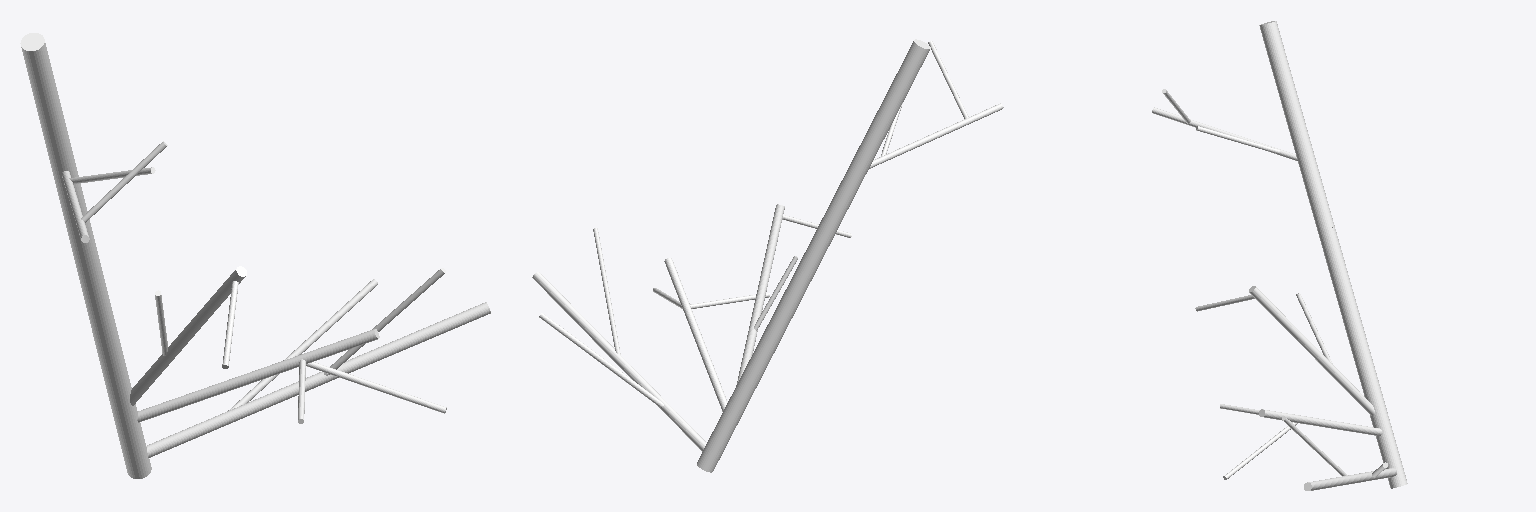
URDF robot description (tree_0.urdf):
<?xml version='1.0' encoding='UTF-8'?>
<robot name="tree_0.urdf">
  <link name="branch_0">
    <inertial>
      <origin xyz="0.0 0.0 0.0" rpy="0.0 -0.0 0.0"/>
      <mass value="1.0"/>
      <inertia ixx="1.0" ixy="0.0" ixz="0.0" iyy="1.0" iyz="0.0" izz="1.0"/>
    </inertial>
    <visual name="branch_0_visual">
      <geometry>
        <cylinder radius="0.15013262370090905" length="8.096652650422634"/>
      </geometry>
      <material name="branch_material"/>
      <origin xyz="-1.3869820004850884 -1.1022877473624741 3.640080862802901" rpy="0.0 0.4529569928857762 -2.470068296618171"/>
    </visual>
    <collision name="branch_0_collision">
      <geometry>
        <cylinder radius="0.15013262370090905" length="8.096652650422634"/>
      </geometry>
      <origin xyz="-1.3869820004850884 -1.1022877473624741 3.640080862802901" rpy="0.0 0.4529569928857762 -2.470068296618171"/>
    </collision>
  </link>
  <link name="branch_1">
    <inertial>
      <origin xyz="0.0 0.0 0.0" rpy="0.0 -0.0 0.0"/>
      <mass value="0.0"/>
      <inertia ixx="1.0" ixy="0.0" ixz="0.0" iyy="1.0" iyz="0.0" izz="1.0"/>
    </inertial>
    <visual name="branch_1_visual">
      <geometry>
        <cylinder radius="0.051920365869800304" length="2.86699736879474"/>
      </geometry>
      <material name="branch_material"/>
      <origin xyz="0.0 0.0 0.0" rpy="0.0 -0.0 0.0"/>
    </visual>
    <collision name="branch_1_collision">
      <geometry>
        <cylinder radius="0.051920365869800304" length="2.86699736879474"/>
      </geometry>
      <origin xyz="0.0 0.0 0.0" rpy="0.0 -0.0 0.0"/>
    </collision>
  </link>
  <link name="branch_2">
    <inertial>
      <origin xyz="0.0 0.0 0.0" rpy="0.0 -0.0 0.0"/>
      <mass value="0.0"/>
      <inertia ixx="1.0" ixy="0.0" ixz="0.0" iyy="1.0" iyz="0.0" izz="1.0"/>
    </inertial>
    <visual name="branch_2_visual">
      <geometry>
        <cylinder radius="0.04" length="1.5883883002295935"/>
      </geometry>
      <material name="branch_material"/>
      <origin xyz="0.0 0.0 0.0" rpy="0.0 -0.0 0.0"/>
    </visual>
    <collision name="branch_2_collision">
      <geometry>
        <cylinder radius="0.04" length="1.5883883002295935"/>
      </geometry>
      <origin xyz="0.0 0.0 0.0" rpy="0.0 -0.0 0.0"/>
    </collision>
  </link>
  <link name="branch_3">
    <inertial>
      <origin xyz="0.0 0.0 0.0" rpy="0.0 -0.0 0.0"/>
      <mass value="0.0"/>
      <inertia ixx="1.0" ixy="0.0" ixz="0.0" iyy="1.0" iyz="0.0" izz="1.0"/>
    </inertial>
    <visual name="branch_3_visual">
      <geometry>
        <cylinder radius="0.04" length="1.4531867637761382"/>
      </geometry>
      <material name="branch_material"/>
      <origin xyz="0.0 0.0 0.0" rpy="0.0 -0.0 0.0"/>
    </visual>
    <collision name="branch_3_collision">
      <geometry>
        <cylinder radius="0.04" length="1.4531867637761382"/>
      </geometry>
      <origin xyz="0.0 0.0 0.0" rpy="0.0 -0.0 0.0"/>
    </collision>
  </link>
  <link name="branch_4">
    <inertial>
      <origin xyz="0.0 0.0 0.0" rpy="0.0 -0.0 0.0"/>
      <mass value="0.0"/>
      <inertia ixx="1.0" ixy="0.0" ixz="0.0" iyy="1.0" iyz="0.0" izz="1.0"/>
    </inertial>
    <visual name="branch_4_visual">
      <geometry>
        <cylinder radius="0.0668728197853477" length="3.4217289489213685"/>
      </geometry>
      <material name="branch_material"/>
      <origin xyz="0.0 0.0 0.0" rpy="0.0 -0.0 0.0"/>
    </visual>
    <collision name="branch_4_collision">
      <geometry>
        <cylinder radius="0.0668728197853477" length="3.4217289489213685"/>
      </geometry>
      <origin xyz="0.0 0.0 0.0" rpy="0.0 -0.0 0.0"/>
    </collision>
  </link>
  <link name="branch_5">
    <inertial>
      <origin xyz="0.0 0.0 0.0" rpy="0.0 -0.0 0.0"/>
      <mass value="0.0"/>
      <inertia ixx="1.0" ixy="0.0" ixz="0.0" iyy="1.0" iyz="0.0" izz="1.0"/>
    </inertial>
    <visual name="branch_5_visual">
      <geometry>
        <cylinder radius="0.04" length="1.5217104062609992"/>
      </geometry>
      <material name="branch_material"/>
      <origin xyz="0.0 0.0 0.0" rpy="0.0 -0.0 0.0"/>
    </visual>
    <collision name="branch_5_collision">
      <geometry>
        <cylinder radius="0.04" length="1.5217104062609992"/>
      </geometry>
      <origin xyz="0.0 0.0 0.0" rpy="0.0 -0.0 0.0"/>
    </collision>
  </link>
  <link name="branch_6">
    <inertial>
      <origin xyz="0.0 0.0 0.0" rpy="0.0 -0.0 0.0"/>
      <mass value="0.0"/>
      <inertia ixx="1.0" ixy="0.0" ixz="0.0" iyy="1.0" iyz="0.0" izz="1.0"/>
    </inertial>
    <visual name="branch_6_visual">
      <geometry>
        <cylinder radius="0.04" length="1.8837803327590306"/>
      </geometry>
      <material name="branch_material"/>
      <origin xyz="0.0 0.0 0.0" rpy="0.0 -0.0 0.0"/>
    </visual>
    <collision name="branch_6_collision">
      <geometry>
        <cylinder radius="0.04" length="1.8837803327590306"/>
      </geometry>
      <origin xyz="0.0 0.0 0.0" rpy="0.0 -0.0 0.0"/>
    </collision>
  </link>
  <link name="branch_7">
    <inertial>
      <origin xyz="0.0 0.0 0.0" rpy="0.0 -0.0 0.0"/>
      <mass value="0.0"/>
      <inertia ixx="1.0" ixy="0.0" ixz="0.0" iyy="1.0" iyz="0.0" izz="1.0"/>
    </inertial>
    <visual name="branch_7_visual">
      <geometry>
        <cylinder radius="0.0763507240095291" length="4.660369491825719"/>
      </geometry>
      <material name="branch_material"/>
      <origin xyz="0.0 0.0 0.0" rpy="0.0 -0.0 0.0"/>
    </visual>
    <collision name="branch_7_collision">
      <geometry>
        <cylinder radius="0.0763507240095291" length="4.660369491825719"/>
      </geometry>
      <origin xyz="0.0 0.0 0.0" rpy="0.0 -0.0 0.0"/>
    </collision>
  </link>
  <link name="branch_8">
    <inertial>
      <origin xyz="0.0 0.0 0.0" rpy="0.0 -0.0 0.0"/>
      <mass value="0.0"/>
      <inertia ixx="1.0" ixy="0.0" ixz="0.0" iyy="1.0" iyz="0.0" izz="1.0"/>
    </inertial>
    <visual name="branch_8_visual">
      <geometry>
        <cylinder radius="0.04553460023283112" length="2.5829864928231516"/>
      </geometry>
      <material name="branch_material"/>
      <origin xyz="0.0 0.0 0.0" rpy="0.0 -0.0 0.0"/>
    </visual>
    <collision name="branch_8_collision">
      <geometry>
        <cylinder radius="0.04553460023283112" length="2.5829864928231516"/>
      </geometry>
      <origin xyz="0.0 0.0 0.0" rpy="0.0 -0.0 0.0"/>
    </collision>
  </link>
  <link name="branch_9">
    <inertial>
      <origin xyz="0.0 0.0 0.0" rpy="0.0 -0.0 0.0"/>
      <mass value="0.0"/>
      <inertia ixx="1.0" ixy="0.0" ixz="0.0" iyy="1.0" iyz="0.0" izz="1.0"/>
    </inertial>
    <visual name="branch_9_visual">
      <geometry>
        <cylinder radius="0.04" length="2.2467777734117598"/>
      </geometry>
      <material name="branch_material"/>
      <origin xyz="0.0 0.0 0.0" rpy="0.0 -0.0 0.0"/>
    </visual>
    <collision name="branch_9_collision">
      <geometry>
        <cylinder radius="0.04" length="2.2467777734117598"/>
      </geometry>
      <origin xyz="0.0 0.0 0.0" rpy="0.0 -0.0 0.0"/>
    </collision>
  </link>
  <link name="branch_10">
    <inertial>
      <origin xyz="0.0 0.0 0.0" rpy="0.0 -0.0 0.0"/>
      <mass value="0.0"/>
      <inertia ixx="1.0" ixy="0.0" ixz="0.0" iyy="1.0" iyz="0.0" izz="1.0"/>
    </inertial>
    <visual name="branch_10_visual">
      <geometry>
        <cylinder radius="0.07429862418030667" length="3.3912485638033703"/>
      </geometry>
      <material name="branch_material"/>
      <origin xyz="0.0 0.0 0.0" rpy="0.0 -0.0 0.0"/>
    </visual>
    <collision name="branch_10_collision">
      <geometry>
        <cylinder radius="0.07429862418030667" length="3.3912485638033703"/>
      </geometry>
      <origin xyz="0.0 0.0 0.0" rpy="0.0 -0.0 0.0"/>
    </collision>
  </link>
  <link name="branch_11">
    <inertial>
      <origin xyz="0.0 0.0 0.0" rpy="0.0 -0.0 0.0"/>
      <mass value="0.0"/>
      <inertia ixx="1.0" ixy="0.0" ixz="0.0" iyy="1.0" iyz="0.0" izz="1.0"/>
    </inertial>
    <visual name="branch_11_visual">
      <geometry>
        <cylinder radius="0.04" length="1.4496087104026383"/>
      </geometry>
      <material name="branch_material"/>
      <origin xyz="0.0 0.0 0.0" rpy="0.0 -0.0 0.0"/>
    </visual>
    <collision name="branch_11_collision">
      <geometry>
        <cylinder radius="0.04" length="1.4496087104026383"/>
      </geometry>
      <origin xyz="0.0 0.0 0.0" rpy="0.0 -0.0 0.0"/>
    </collision>
  </link>
  <link name="branch_12">
    <inertial>
      <origin xyz="0.0 0.0 0.0" rpy="0.0 -0.0 0.0"/>
      <mass value="0.0"/>
      <inertia ixx="1.0" ixy="0.0" ixz="0.0" iyy="1.0" iyz="0.0" izz="1.0"/>
    </inertial>
    <visual name="branch_12_visual">
      <geometry>
        <cylinder radius="0.04" length="1.4071426121738593"/>
      </geometry>
      <material name="branch_material"/>
      <origin xyz="0.0 0.0 0.0" rpy="0.0 -0.0 0.0"/>
    </visual>
    <collision name="branch_12_collision">
      <geometry>
        <cylinder radius="0.04" length="1.4071426121738593"/>
      </geometry>
      <origin xyz="0.0 0.0 0.0" rpy="0.0 -0.0 0.0"/>
    </collision>
  </link>
  <joint name="joint_0_1" type="fixed">
    <parent link="branch_0"/>
    <child link="branch_1"/>
    <axis xyz="1. 0. 0."/>
    <origin xyz="-2.5432021764851758 -2.8340914590452395 5.298900423929498" rpy="1.0307131364332076 1.3044249575014595 -0.9590427431967431"/>
  </joint>
  <joint name="joint_0_4" type="fixed">
    <parent link="branch_0"/>
    <child link="branch_4"/>
    <axis xyz="1. 0. 0."/>
    <origin xyz="0.8449163965118388 -1.2760604664050104 1.5605153213928653" rpy="0.7685279684794722 0.9390854646389996 0.1534758009769834"/>
  </joint>
  <joint name="joint_0_7" type="fixed">
    <parent link="branch_0"/>
    <child link="branch_7"/>
    <axis xyz="1. 0. 0."/>
    <origin xyz="1.9693584696585402 -0.8004129472239947 1.0433908033256993" rpy="0.7825736423464414 1.0521247555406519 0.5104405778621349"/>
  </joint>
  <joint name="joint_0_10" type="fixed">
    <parent link="branch_0"/>
    <child link="branch_10"/>
    <axis xyz="1. 0. 0."/>
    <origin xyz="-0.19500642901592524 -1.3938083124119782 2.3587037297106224" rpy="0.516745002658479 0.49576769357779676 -0.5039064654988771"/>
  </joint>
  <joint name="joint_1_2" type="fixed">
    <parent link="branch_0"/>
    <child link="branch_2"/>
    <axis xyz="1. 0. 0."/>
    <origin xyz="-1.9600113770884535 -2.6905210639004884 5.486639416594718" rpy="1.1487028671122481 -0.24853229754640016 0.3734555327155915"/>
  </joint>
  <joint name="joint_1_3" type="fixed">
    <parent link="branch_0"/>
    <child link="branch_3"/>
    <axis xyz="1. 0. 0."/>
    <origin xyz="-2.3892026905008703 -3.7337424929450687 5.911676468733345" rpy="0.7918333258851697 0.0780444148946099 1.0769787307702419"/>
  </joint>
  <joint name="joint_4_5" type="fixed">
    <parent link="branch_0"/>
    <child link="branch_5"/>
    <axis xyz="1. 0. 0."/>
    <origin xyz="0.9281222536702178 -2.34271526110035 1.794457871543665" rpy="-1.6600979970977392 0.4542192049982839 2.5638890679924073"/>
  </joint>
  <joint name="joint_4_6" type="fixed">
    <parent link="branch_0"/>
    <child link="branch_6"/>
    <axis xyz="1. 0. 0."/>
    <origin xyz="1.9540803076691577 -2.296613815920955 1.602967917456297" rpy="-2.9455553131028167 1.3114038035211555 2.5860060900102098"/>
  </joint>
  <joint name="joint_7_8" type="fixed">
    <parent link="branch_0"/>
    <child link="branch_8"/>
    <axis xyz="1. 0. 0."/>
    <origin xyz="2.062072603641461 -0.3301570578617569 1.254499586976861" rpy="1.0531889631130937 -0.22280913501189495 1.7859907137728264"/>
  </joint>
  <joint name="joint_7_9" type="fixed">
    <parent link="branch_0"/>
    <child link="branch_9"/>
    <axis xyz="1. 0. 0."/>
    <origin xyz="2.615384634125074 -1.3868353634805062 1.9057621078884197" rpy="-0.6051433593208853 -0.47995423529002945 -2.9536141178961555"/>
  </joint>
  <joint name="joint_10_11" type="fixed">
    <parent link="branch_0"/>
    <child link="branch_11"/>
    <axis xyz="1. 0. 0."/>
    <origin xyz="-0.48793733709155584 -1.3969974314264861 2.611625449175006" rpy="-0.5548524397961894 0.047420739864796925 2.5594468227904628"/>
  </joint>
  <joint name="joint_10_12" type="fixed">
    <parent link="branch_0"/>
    <child link="branch_12"/>
    <axis xyz="1. 0. 0."/>
    <origin xyz="-0.3787316192114221 -2.8743389884223167 3.225118320330858" rpy="-2.355052768480837 0.9243003930077124 1.844746536952967"/>
  </joint>
  <material name="branch_material">
    <color rgba="1. 1. 1. 1."/>
  </material>
</robot>

--- What the picture shows (computed from the rendered views, not written in the file) ---
Views: 3 orthographic renders of the robot side by side, from view 1: azimuth 30°, elevation 25°; view 2: azimuth 150°, elevation 25°; view 3: azimuth 270°, elevation 25°.
Model tree_0.urdf with 13 links and 12 joints (12 fixed), rooted at branch_0, posed all joints at 0.
Links seen in each view (by area): view 1: branch_0, branch_7, branch_4, branch_10, branch_8, branch_6, branch_9, branch_3, branch_1, branch_12; view 2: branch_0, branch_7, branch_10, branch_4, branch_1, branch_8, branch_9; view 3: branch_0, branch_10, branch_4, branch_7, branch_1.
Link boxes in pixels (<box>): branch_0: <box>20,33,151,478</box>; branch_7: <box>146,302,490,457</box>; branch_4: <box>137,329,379,422</box>; branch_10: <box>130,266,246,405</box>; branch_8: <box>228,279,377,410</box>; branch_6: <box>306,362,446,413</box>; branch_9: <box>324,268,445,375</box>; branch_3: <box>81,141,167,222</box>; branch_1: <box>62,171,89,242</box>; branch_12: <box>222,281,238,368</box>; branch_0: <box>697,39,930,472</box>; branch_7: <box>532,272,706,451</box>; branch_10: <box>736,204,784,385</box>; branch_4: <box>664,258,727,411</box>; branch_1: <box>869,103,1003,168</box>; branch_8: <box>539,313,663,407</box>; branch_9: <box>593,228,620,354</box>; branch_0: <box>1259,21,1407,488</box>; branch_10: <box>1249,286,1374,415</box>; branch_4: <box>1259,409,1381,435</box>; branch_7: <box>1304,468,1396,490</box>; branch_1: <box>1152,107,1297,160</box>.
Size in the robot's own frame: 7.25 by 4.29 by 7.41 metres.
Geometry: primitives only (box / cylinder / sphere), no mesh files.